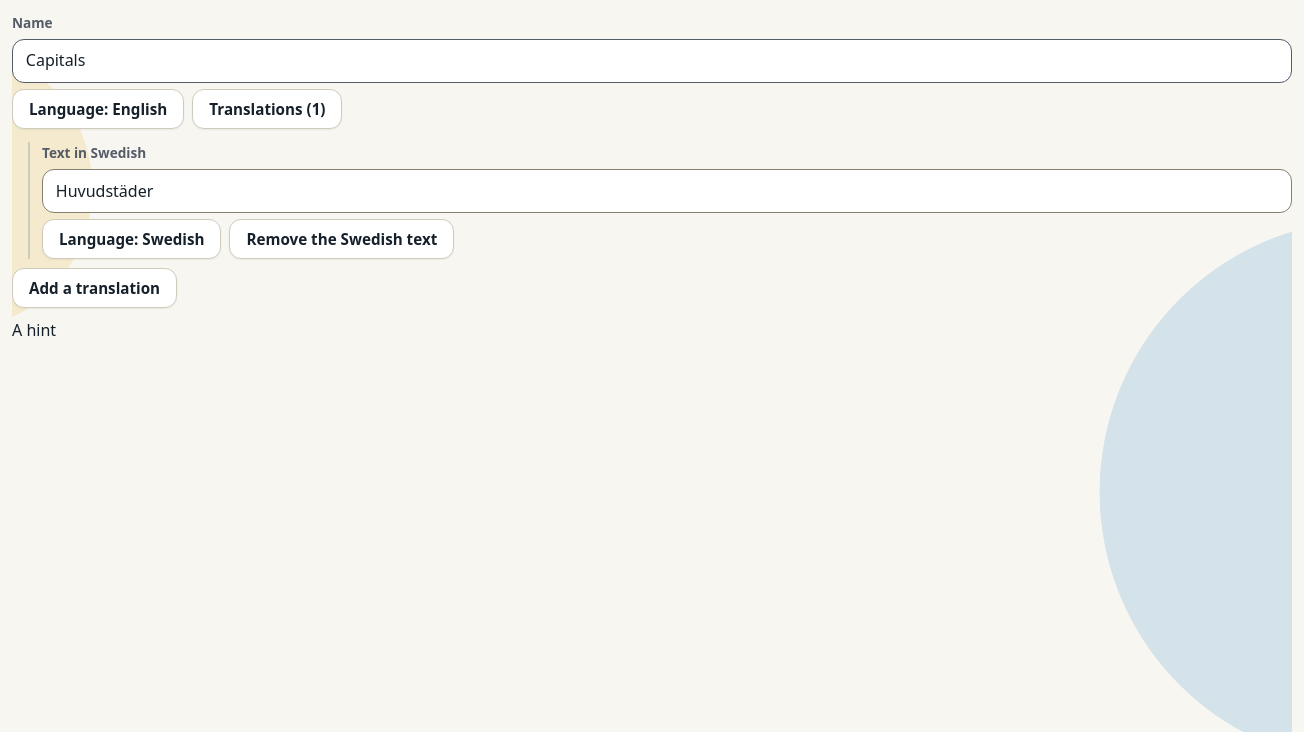
Test case: LangTextField › removes a translation, focus going back to Add
Click the button "Remove the Swedish text". click: coordinates (342, 239)
box: [230,219,454,259]
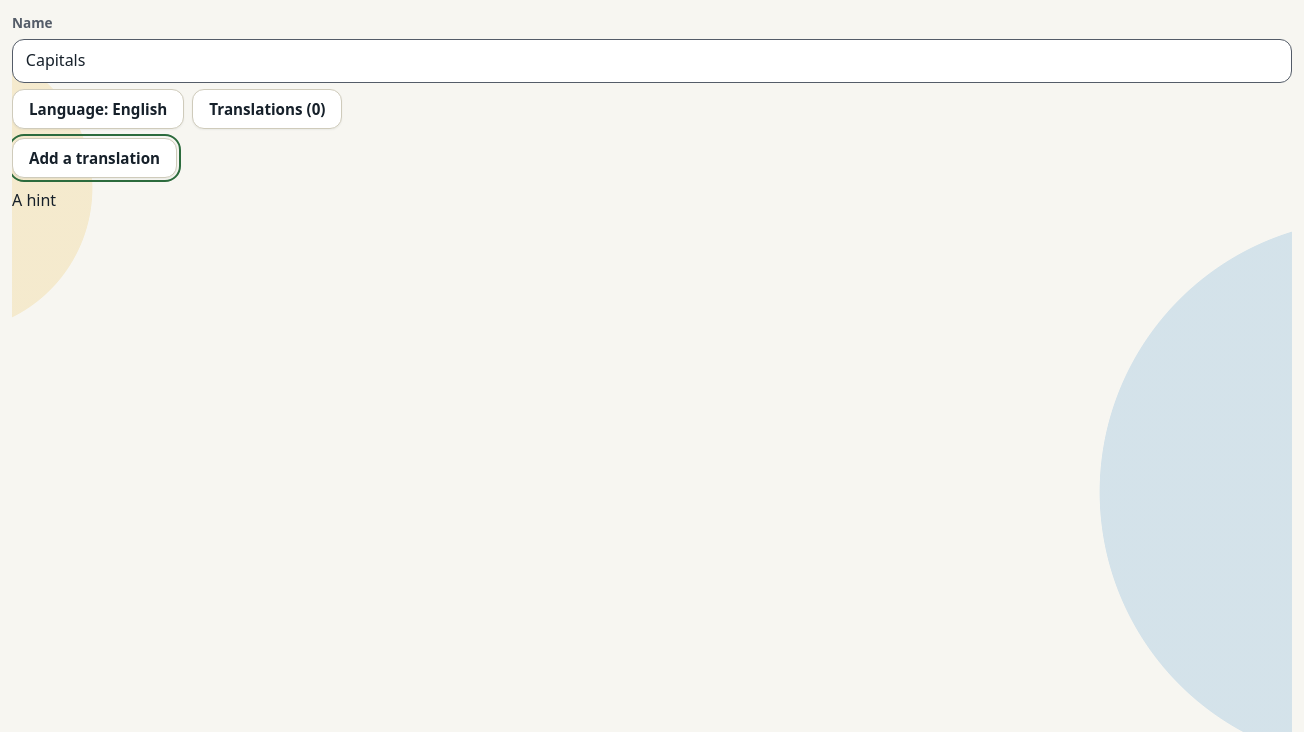
Click the button "Add a translation". click: coordinates (95, 158)
box: [12,138,177,178]
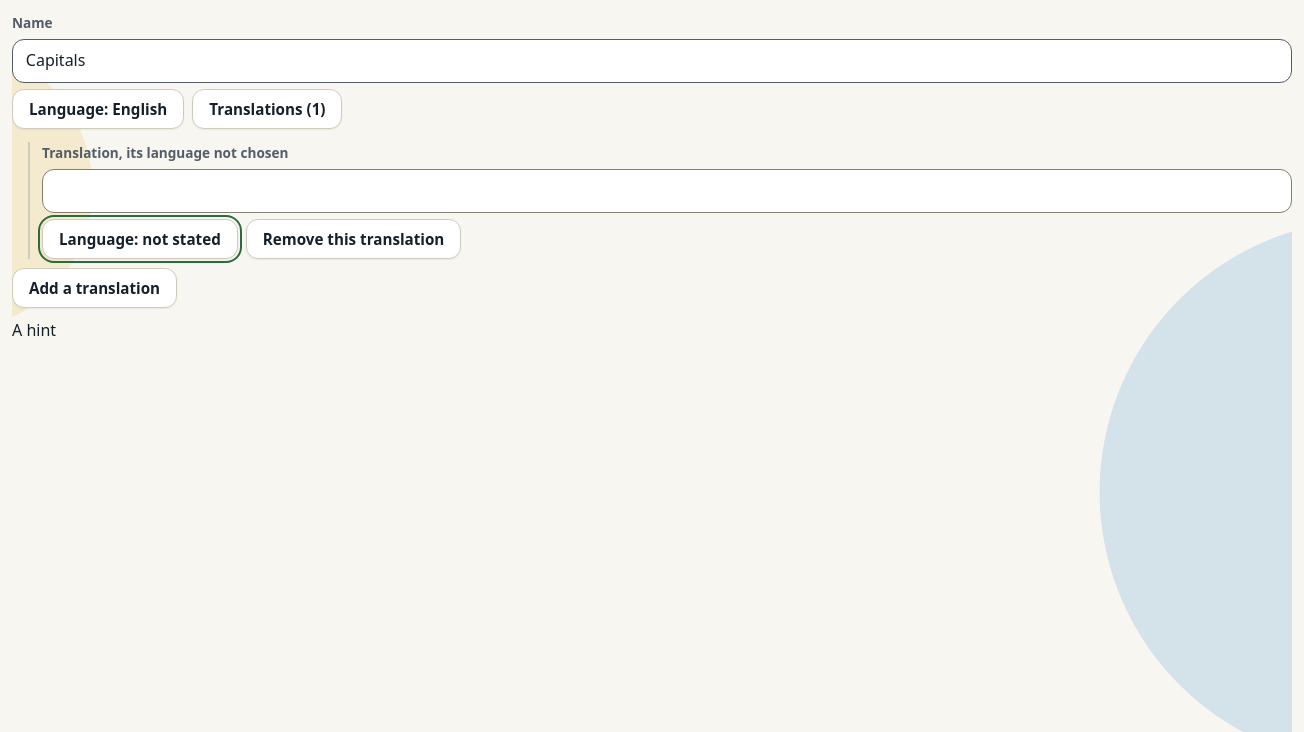
Click the button "Remove this translation". click: coordinates (354, 239)
box: [246,219,461,259]
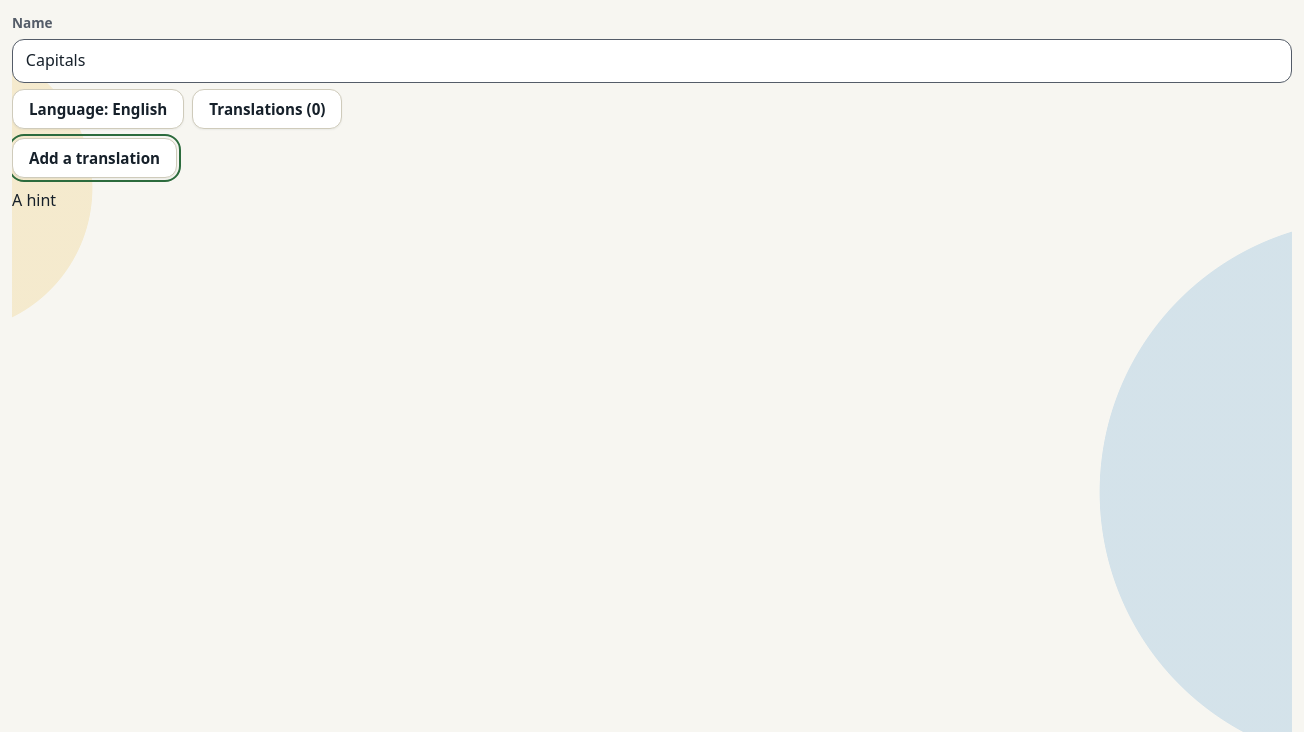
Now the label labelled "Translation, its language not chosen" is gone
